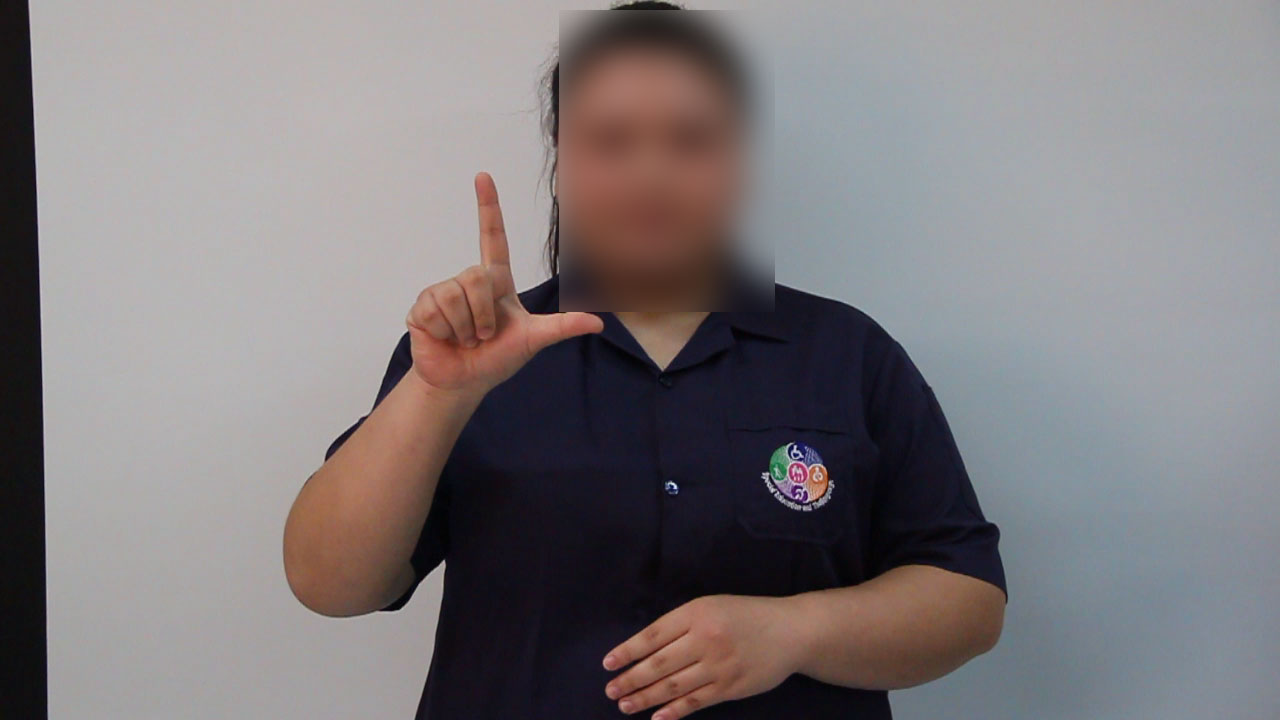lor: (367, 132, 629, 403)
